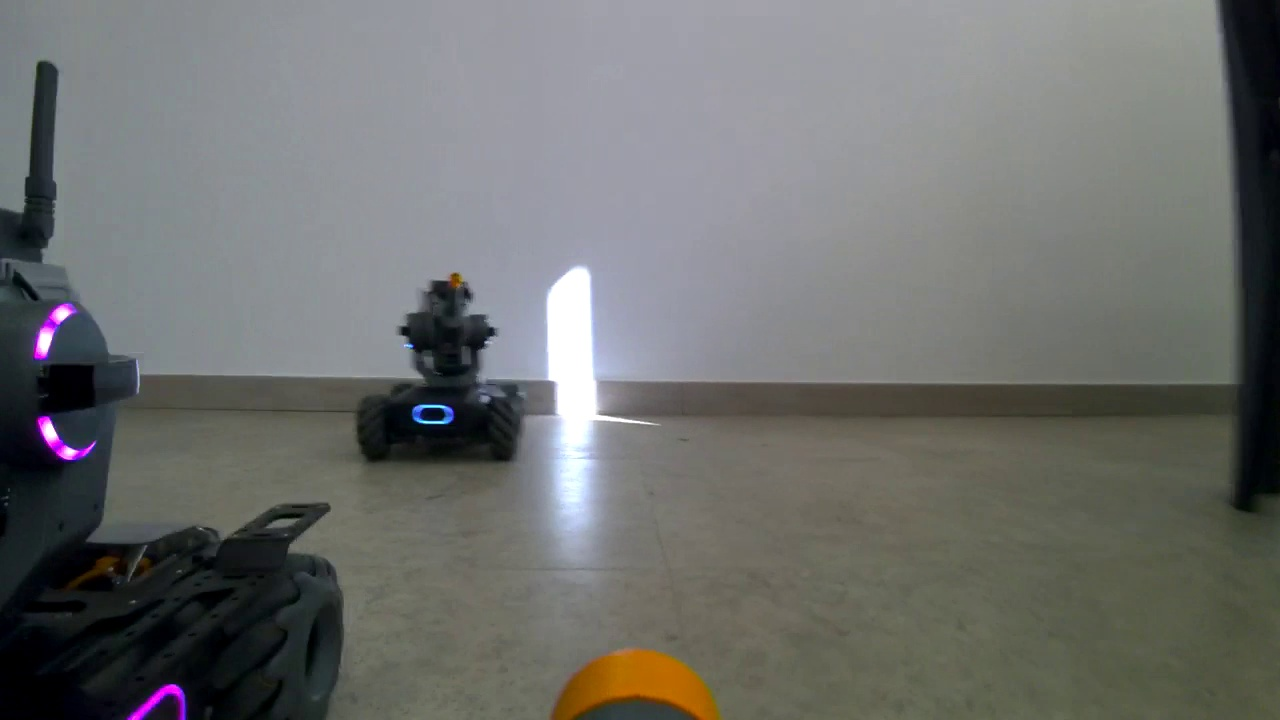robot: (1, 148, 336, 716), (361, 267, 534, 460)
